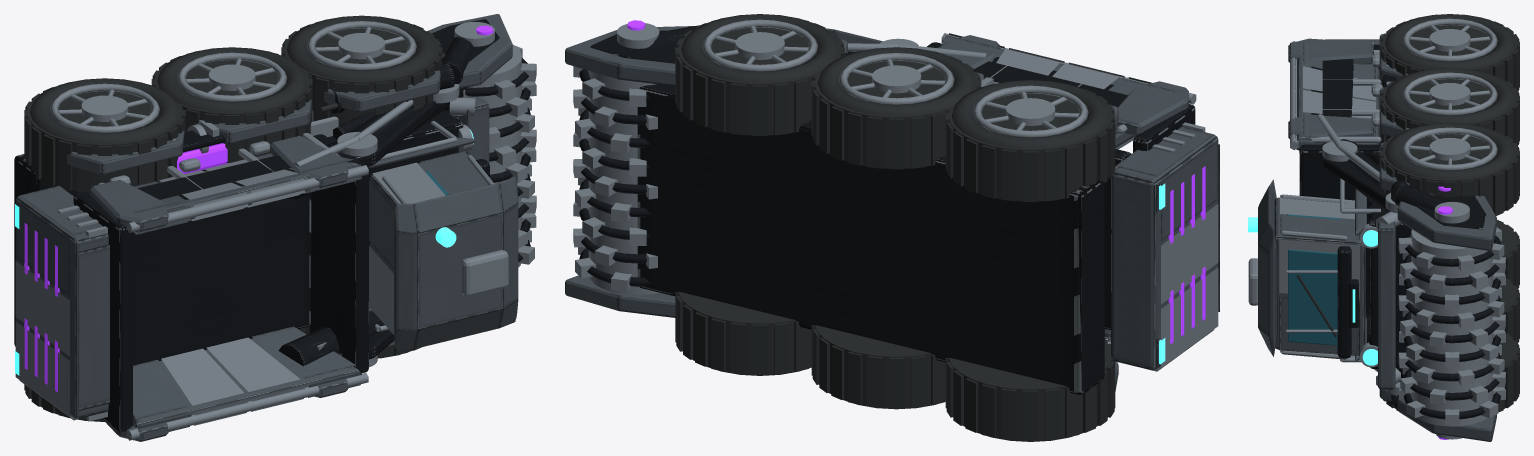
The model's file is harvester-high.glb.
The picture shows the model from 3 angles, left to right: view 1: azimuth 30°, elevation 25°; view 2: azimuth 150°, elevation 25°; view 3: azimuth 270°, elevation 25°; orthographic projection. The views are drawn at different scales.
Parts seen in each view (by area): view 1: harvester-root / Brushed pale alloy, harvester-root / Ceramic graphite, harvester-root / Titanium edges, Wheel 2 1 / Tire rubber, Wheel 0 1 / Tire rubber, Wheel 1 1 / Tire rubber, Mineral intake roller / Titanium edges, Wheel 0 1 / Titanium edges, Wheel 1 1 / Titanium edges, Wheel 2 1 / Titanium edges, harvester-root / Violet processing, Mineral intake roller / Ceramic graphite (+1 smaller); view 2: harvester-root / Ceramic graphite, harvester-root / Brushed pale alloy, Wheel 2 1 / Tire rubber, Wheel 0 1 / Tire rubber, Wheel 1 1 / Tire rubber, Mineral intake roller / Titanium edges, harvester-root / Titanium edges, Wheel 2 -1 / Tire rubber, Wheel 0 -1 / Tire rubber, Wheel 1 -1 / Tire rubber, Mineral intake roller / Ceramic graphite, Wheel 1 1 / Titanium edges (+3 smaller); view 3: harvester-root / Brushed pale alloy, Mineral intake roller / Titanium edges, harvester-root / Ceramic graphite, harvester-root / Titanium edges, Wheel 0 1 / Tire rubber, Wheel 1 1 / Tire rubber, Wheel 2 1 / Tire rubber, Mineral intake roller / Ceramic graphite, harvester-root / Cyan glazing, Wheel 0 1 / Titanium edges, Wheel 2 1 / Titanium edges, Wheel 1 1 / Titanium edges (+4 smaller).
Boxes of the visible parts, x1=… form: harvester-root / Brushed pale alloy: x1=15, y1=14, x2=518, y2=441; harvester-root / Ceramic graphite: x1=14, y1=19, x2=499, y2=431; harvester-root / Titanium edges: x1=15, y1=22, x2=508, y2=440; Wheel 2 1 / Tire rubber: x1=24, y1=78, x2=185, y2=193; Wheel 0 1 / Tire rubber: x1=281, y1=15, x2=442, y2=126; Wheel 1 1 / Tire rubber: x1=151, y1=47, x2=312, y2=162; Mineral intake roller / Titanium edges: x1=455, y1=45, x2=536, y2=267; Wheel 0 1 / Titanium edges: x1=306, y1=21, x2=416, y2=70; Wheel 1 1 / Titanium edges: x1=177, y1=52, x2=287, y2=101; Wheel 2 1 / Titanium edges: x1=50, y1=83, x2=159, y2=133; harvester-root / Violet processing: x1=24, y1=25, x2=493, y2=391; Mineral intake roller / Ceramic graphite: x1=447, y1=58, x2=530, y2=261; harvester-root / Ceramic graphite: x1=589, y1=25, x2=1195, y2=394; harvester-root / Brushed pale alloy: x1=565, y1=26, x2=1219, y2=391; Wheel 2 1 / Tire rubber: x1=945, y1=80, x2=1115, y2=201; Wheel 0 1 / Tire rubber: x1=675, y1=14, x2=844, y2=135; Wheel 1 1 / Tire rubber: x1=811, y1=47, x2=981, y2=169; Mineral intake roller / Titanium edges: x1=573, y1=66, x2=659, y2=294; harvester-root / Titanium edges: x1=617, y1=23, x2=1218, y2=367; Wheel 2 -1 / Tire rubber: x1=945, y1=339, x2=1115, y2=441; Wheel 0 -1 / Tire rubber: x1=675, y1=291, x2=811, y2=375; Wheel 1 -1 / Tire rubber: x1=811, y1=325, x2=945, y2=409; Mineral intake roller / Ceramic graphite: x1=579, y1=69, x2=650, y2=286; Wheel 1 1 / Titanium edges: x1=838, y1=53, x2=954, y2=104; harvester-root / Brushed pale alloy: x1=1258, y1=33, x2=1496, y2=441; Mineral intake roller / Titanium edges: x1=1398, y1=227, x2=1505, y2=426; harvester-root / Ceramic graphite: x1=1299, y1=44, x2=1486, y2=409; harvester-root / Titanium edges: x1=1248, y1=41, x2=1469, y2=439; Wheel 0 1 / Tire rubber: x1=1380, y1=123, x2=1519, y2=215; Wheel 1 1 / Tire rubber: x1=1380, y1=68, x2=1519, y2=145; Wheel 2 1 / Tire rubber: x1=1380, y1=14, x2=1519, y2=91; Mineral intake roller / Ceramic graphite: x1=1403, y1=233, x2=1500, y2=419; harvester-root / Cyan glazing: x1=1287, y1=214, x2=1340, y2=345; Wheel 0 1 / Titanium edges: x1=1402, y1=127, x2=1497, y2=170; Wheel 2 1 / Titanium edges: x1=1402, y1=18, x2=1497, y2=61; Wheel 1 1 / Titanium edges: x1=1402, y1=72, x2=1497, y2=115.
Size of the model in its own units: 1.52 by 0.793 by 0.7758.
Materials: 7 (2 with a texture image).
